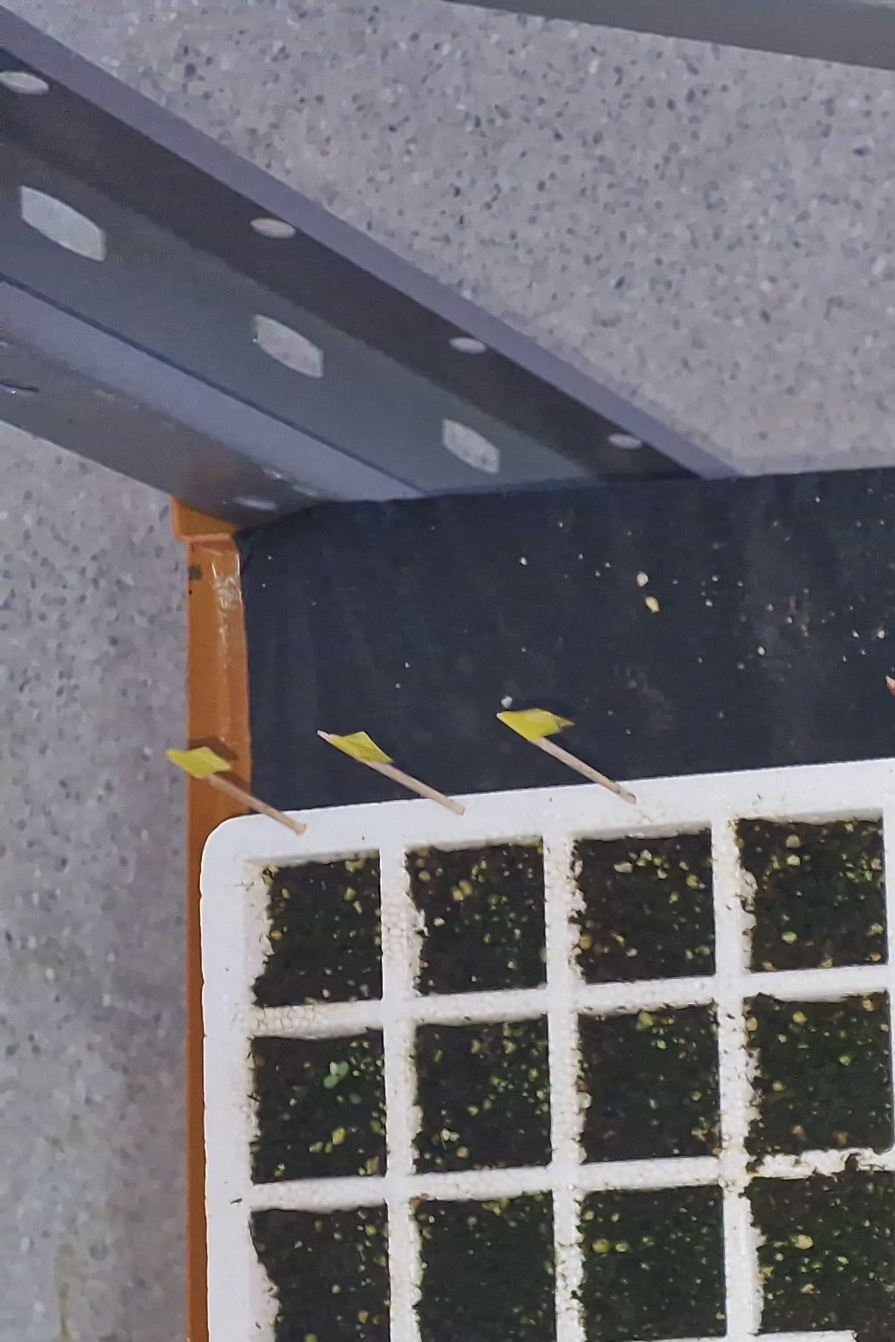Folha: (324, 1075, 340, 1087), (337, 1062, 348, 1076)
Germinacao: (324, 1061, 349, 1087)
